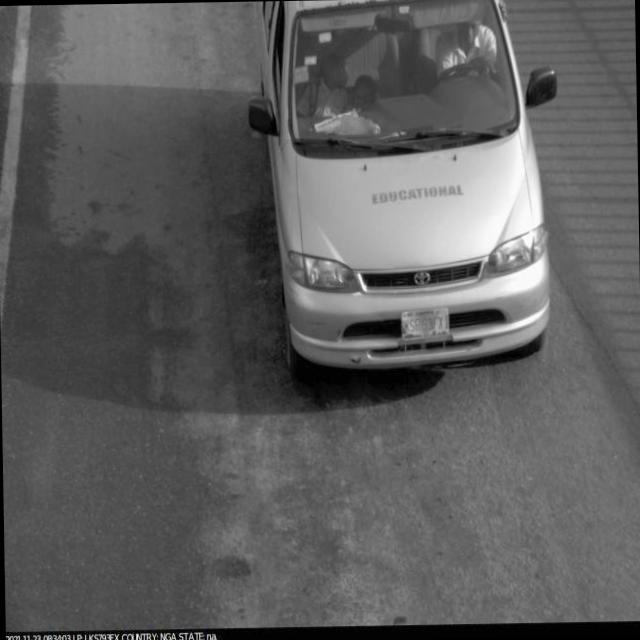person_without_seatbelt: (424, 0, 502, 100)
